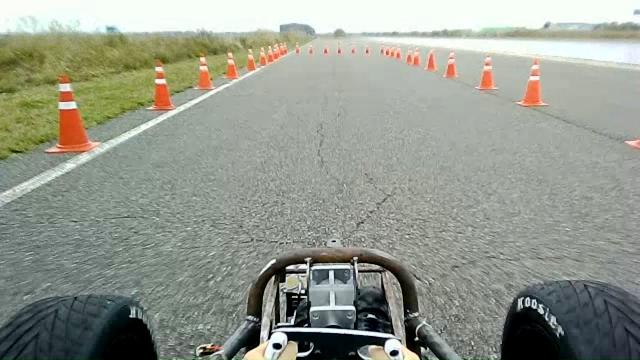red cone: (44, 74, 101, 153), (516, 56, 548, 107), (146, 58, 176, 110), (193, 52, 215, 90), (475, 55, 498, 90), (443, 50, 459, 78), (223, 51, 239, 79), (425, 48, 437, 72), (246, 48, 256, 71), (258, 47, 267, 66), (412, 47, 421, 66), (405, 48, 413, 64), (266, 46, 274, 62), (294, 42, 300, 54), (336, 42, 342, 54), (308, 44, 314, 55)
